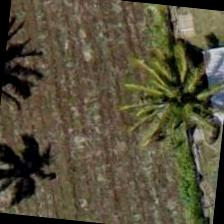Kelapa_Sawit: (119, 56, 218, 154)
